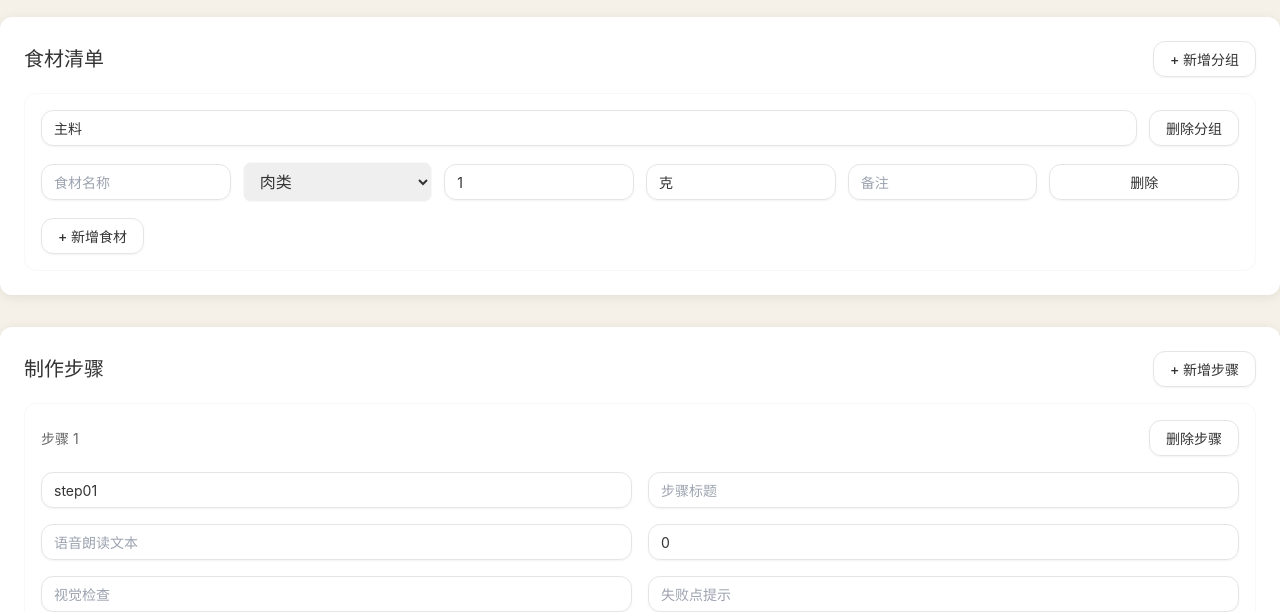
RecipeForm › adds a new step
(page scrolled)
Click the button "+ 新增步骤". click: (1204, 369)
box: [1153,351,1256,387]
(page scrolled)
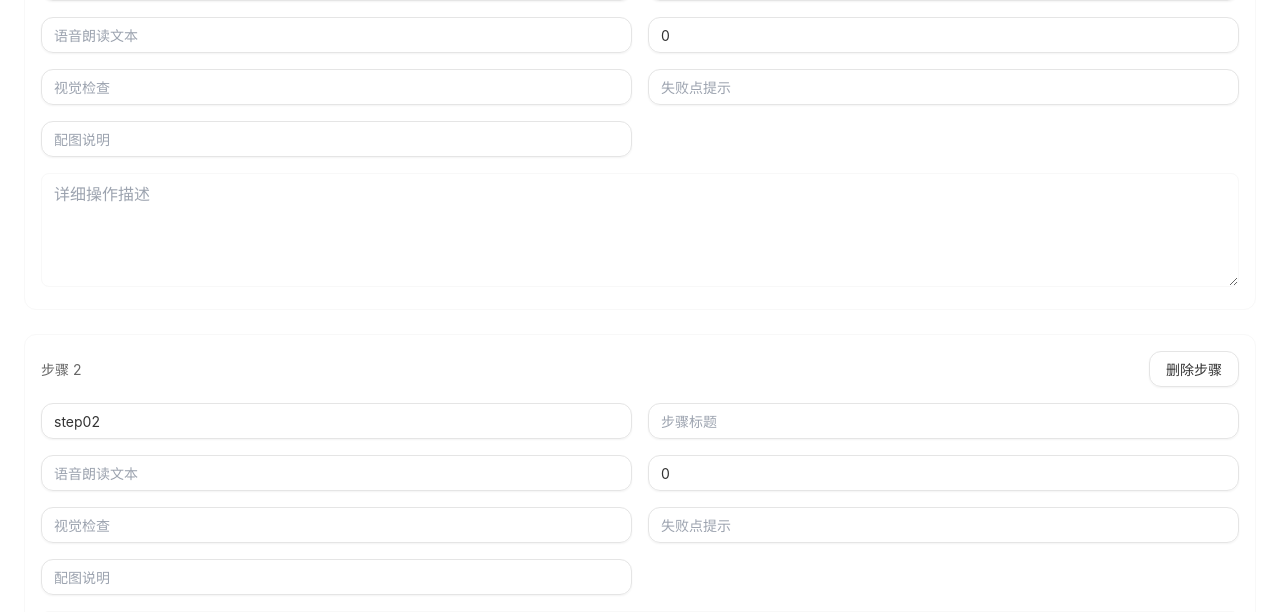
Expected: the text "步骤 2" is shown, [41,358,82,380]
